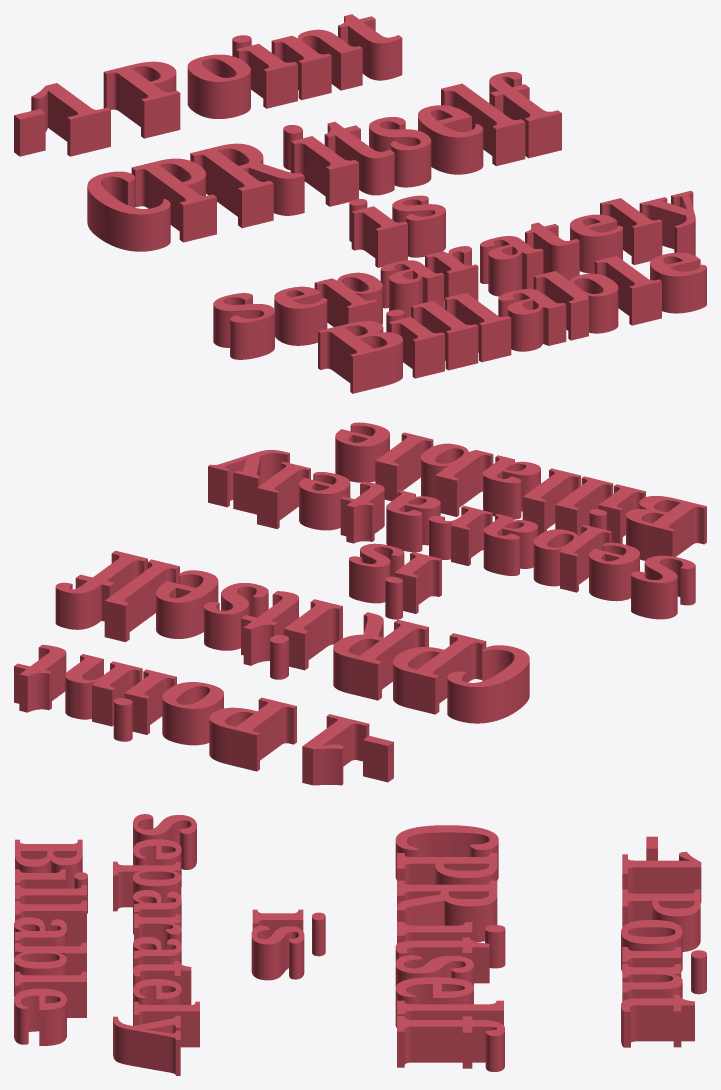
3 renders of one model, top to bottom at view 1: azimuth 30°, elevation 25°; view 2: azimuth 150°, elevation 25°; view 3: azimuth 270°, elevation 25°, orthographic. The views are drawn at different scales.
Parts seen in each view (by area): view 1: Mesh_Mesh_head_geo001_lambert2SG001; view 2: Mesh_Mesh_head_geo001_lambert2SG001; view 3: Mesh_Mesh_head_geo001_lambert2SG001.
Boxes of the visible parts, x1,y1,x2,y2 form: Mesh_Mesh_head_geo001_lambert2SG001: [14, 14, 706, 393]; Mesh_Mesh_head_geo001_lambert2SG001: [14, 422, 706, 785]; Mesh_Mesh_head_geo001_lambert2SG001: [14, 814, 706, 1075].
Size of the model in its own units: 135 by 10 by 175.
